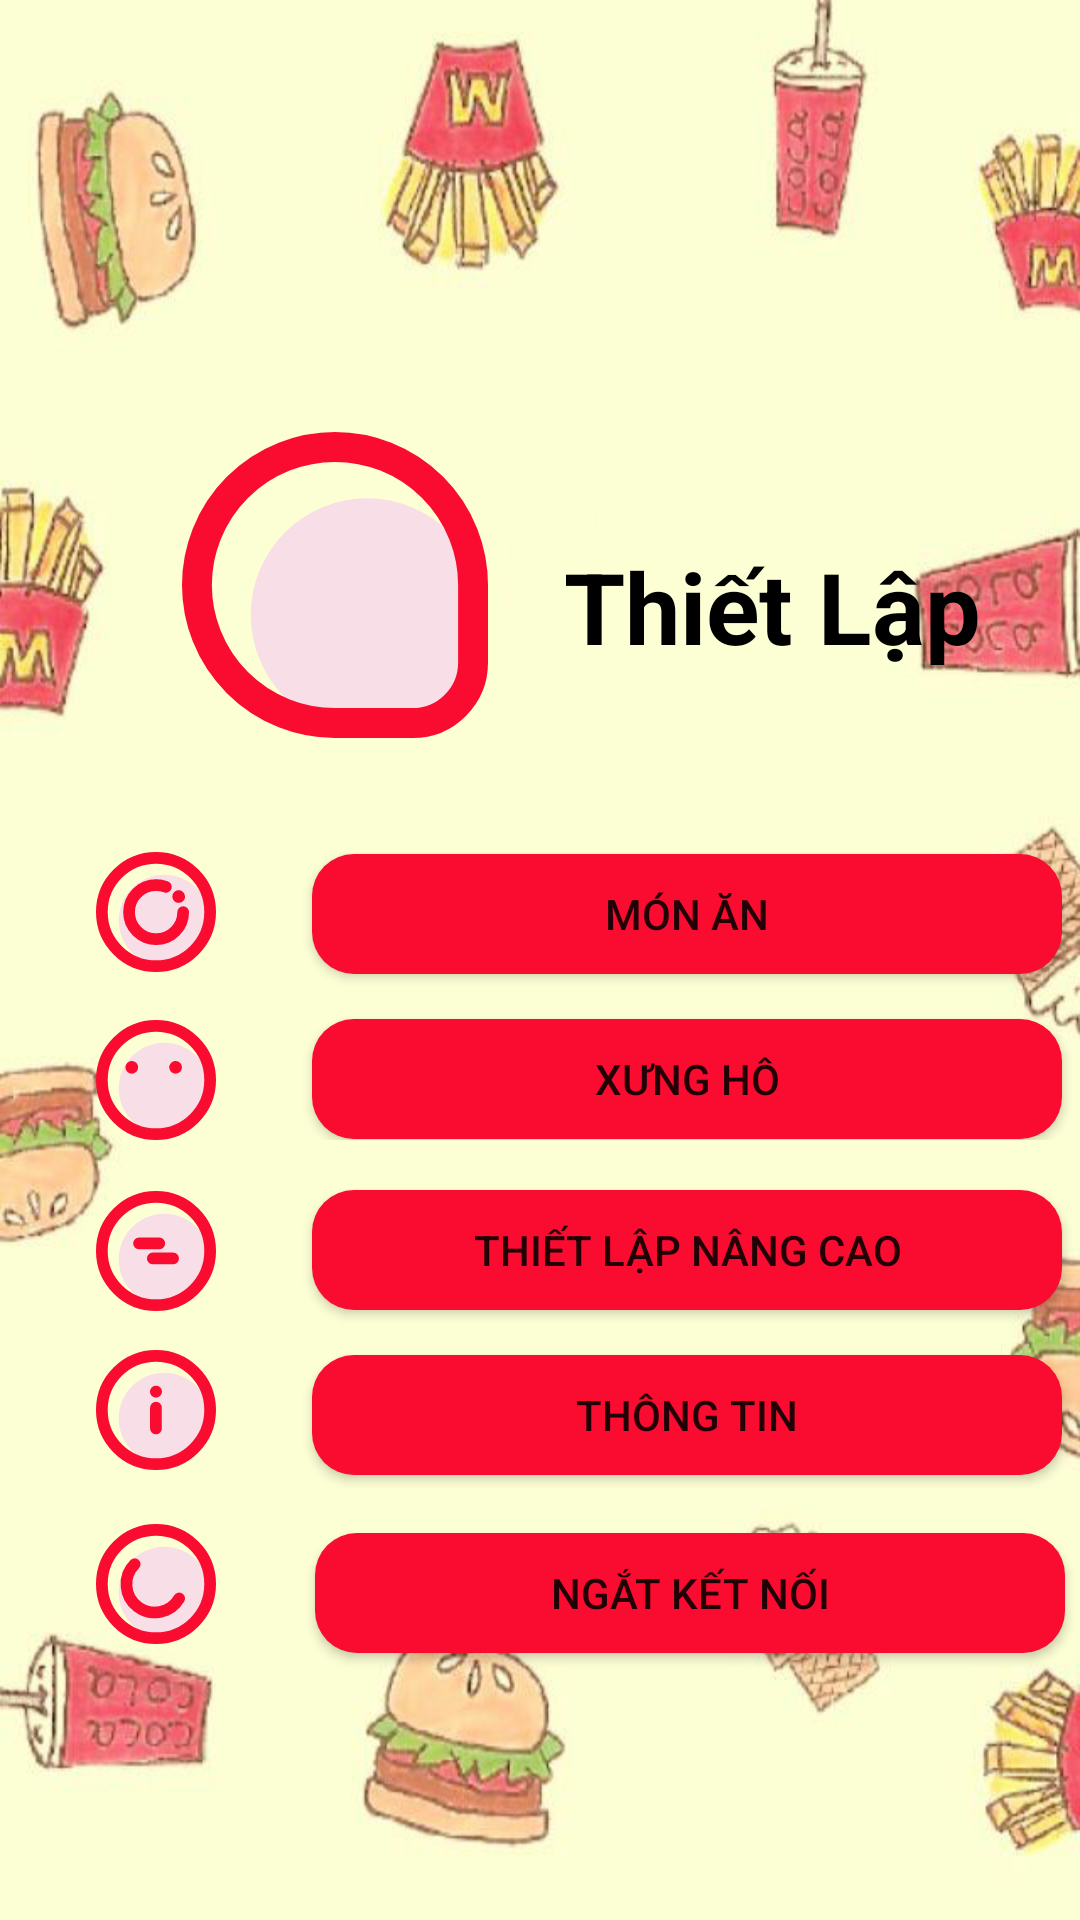

Named icons in this screenshot (1080x1920) and their bounding boxes, bbox=[x1, y1, x2, y2]:
face: bbox=[96, 1020, 216, 1140]
info: bbox=[96, 1350, 216, 1470]
